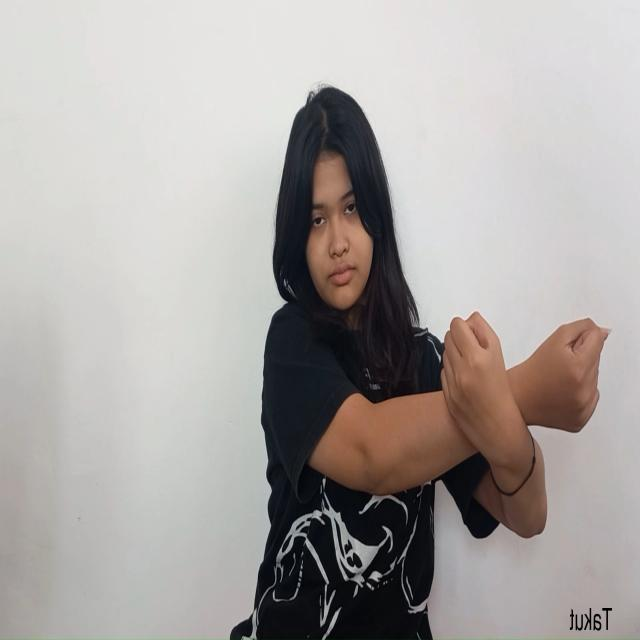Takut -BISINDO-: (439, 308, 612, 502)
